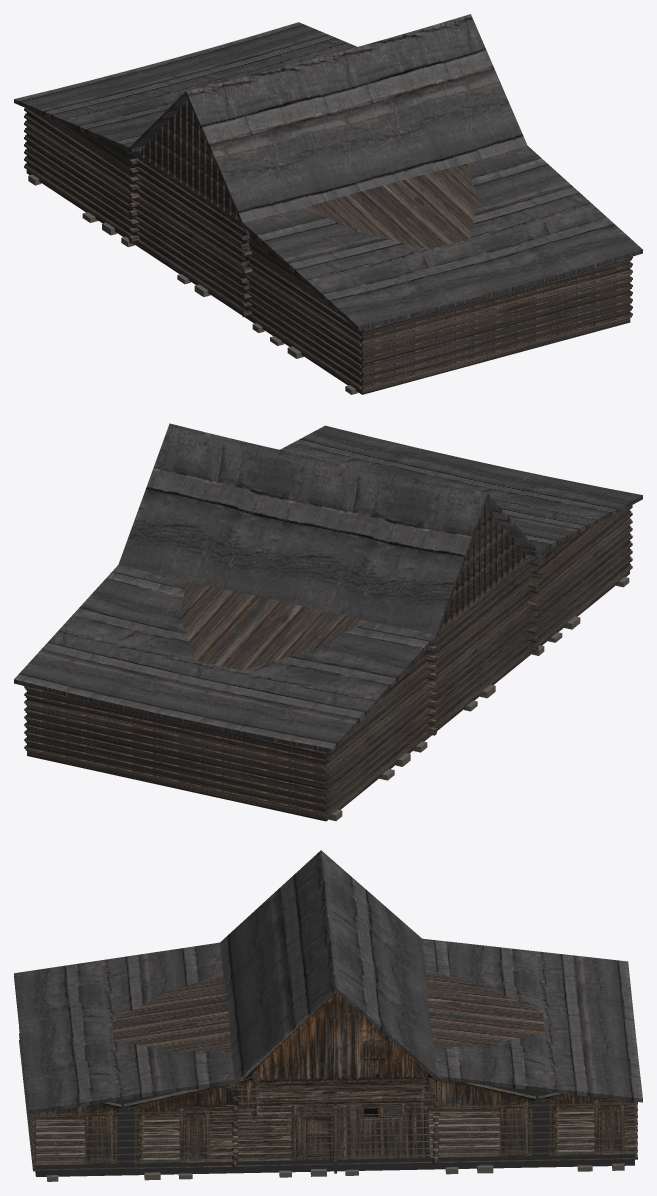
The model's file is ta-moulton-barn-lod0.glb.
3 renders of one model, top to bottom at view 1: azimuth 30°, elevation 25°; view 2: azimuth 150°, elevation 25°; view 3: azimuth 270°, elevation 25°, orthographic. The views are drawn at different scales.
Parts seen in each view (by area): view 1: LOD0_weathered_shake_roof, LOD0_weathered_timber, LOD0_foundation_stone; view 2: LOD0_weathered_shake_roof, LOD0_weathered_timber, LOD0_foundation_stone; view 3: LOD0_weathered_shake_roof, LOD0_weathered_timber, LOD0_foundation_stone.
Boxes of the visible parts, x1=… form: LOD0_weathered_shake_roof: x1=14, y1=14, x2=642, y2=330; LOD0_weathered_timber: x1=24, y1=79, x2=632, y2=394; LOD0_foundation_stone: x1=28, y1=174, x2=358, y2=394; LOD0_weathered_shake_roof: x1=14, y1=423, x2=642, y2=752; LOD0_weathered_timber: x1=24, y1=503, x2=632, y2=821; LOD0_foundation_stone: x1=329, y1=577, x2=629, y2=820; LOD0_weathered_shake_roof: x1=14, y1=850, x2=642, y2=1114; LOD0_weathered_timber: x1=19, y1=969, x2=637, y2=1176; LOD0_foundation_stone: x1=47, y1=1163, x2=624, y2=1181.
Size of the model in its own units: 10.21 by 6.09 by 18.19.
4 materials, 3 textured.
